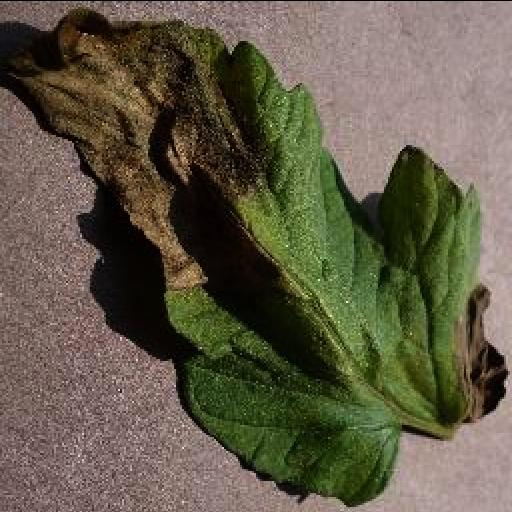disease_tomato: (0, 19, 512, 505)
